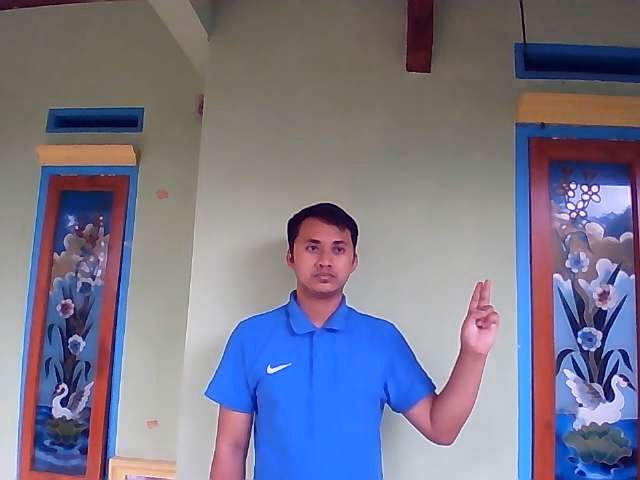U: (460, 278, 500, 353)
